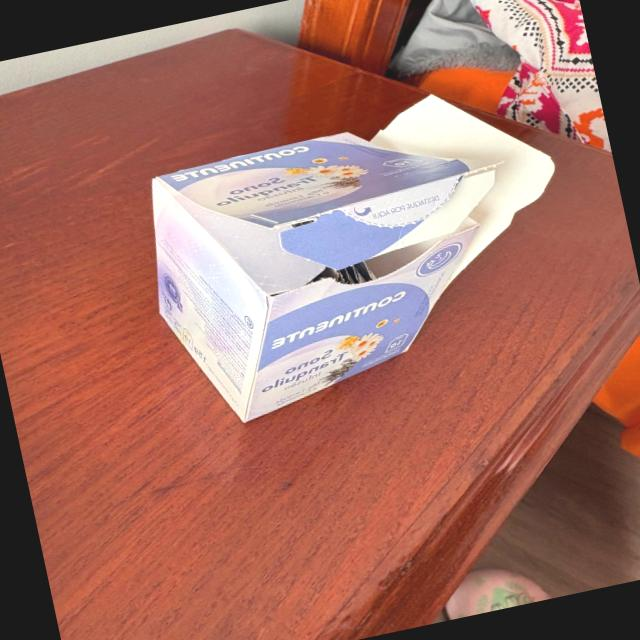damaged_package: (122, 71, 592, 438)
